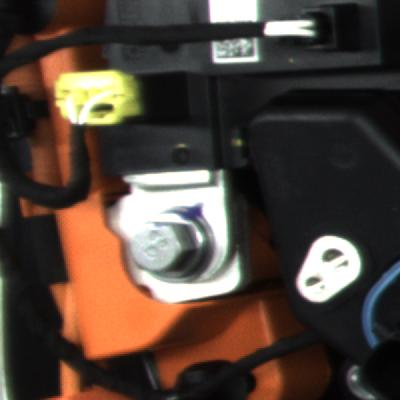nut_b: (124, 203, 221, 287)
